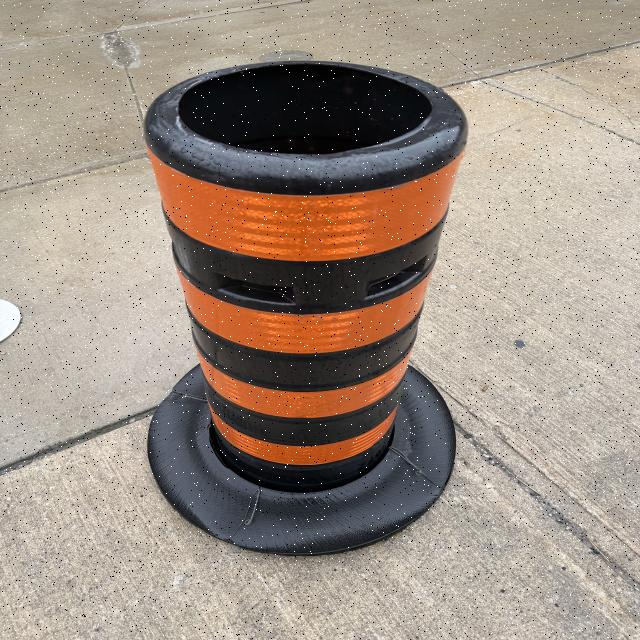Teraffic Barrel: (146, 62, 467, 554)
